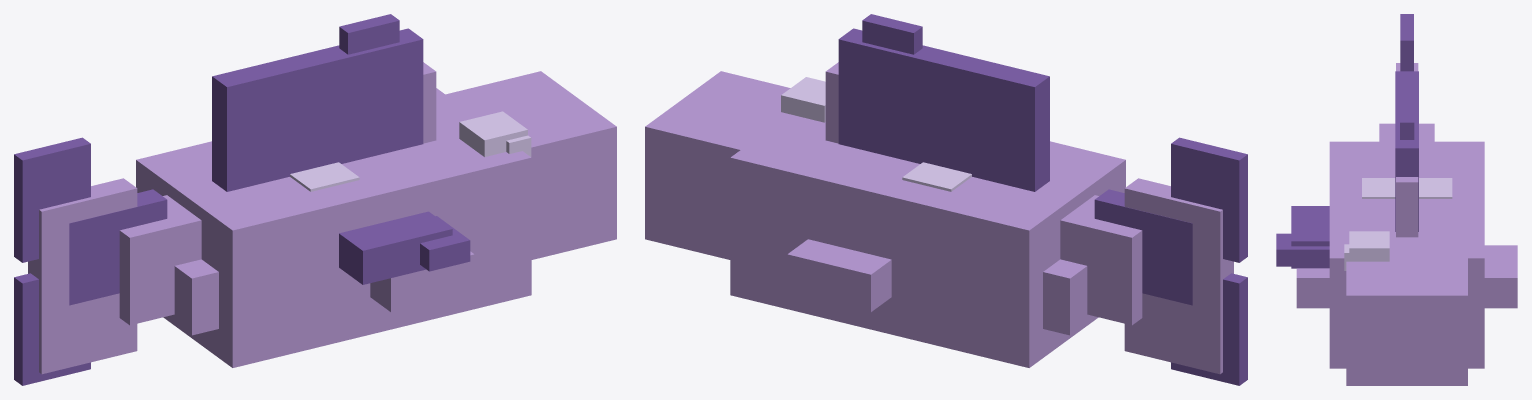
File: fish_prism_shad.glb
3 renders of one model, left to right at view 1: azimuth 30°, elevation 25°; view 2: azimuth 150°, elevation 25°; view 3: azimuth 270°, elevation 25°, orthographic. The views are drawn at different scales.
Parts seen in each view (by area): view 1: FishArt_body, FishArt_dorsal, FishArt_tail, FishArt_pectoral, FishArt_eye, FishArt_specialty; view 2: FishArt_body, FishArt_dorsal, FishArt_tail, FishArt_eye, FishArt_specialty; view 3: FishArt_body, FishArt_pectoral, FishArt_dorsal, FishArt_specialty, FishArt_eye, FishArt_tail.
Part boxes in pixels (<box>): FishArt_body: <box>28,62,616,374</box>; FishArt_dorsal: <box>212,14,423,191</box>; FishArt_tail: <box>14,137,167,385</box>; FishArt_pectoral: <box>339,211,470,284</box>; FishArt_eye: <box>459,111,531,156</box>; FishArt_specialty: <box>290,162,359,191</box>; FishArt_body: <box>645,62,1233,374</box>; FishArt_dorsal: <box>838,14,1049,191</box>; FishArt_tail: <box>1094,137,1247,385</box>; FishArt_eye: <box>781,77,825,122</box>; FishArt_specialty: <box>902,162,971,191</box>; FishArt_body: <box>1296,63,1517,385</box>; FishArt_pectoral: <box>1276,206,1329,268</box>; FishArt_dorsal: <box>1395,71,1418,231</box>; FishArt_specialty: <box>1362,178,1452,198</box>; FishArt_eye: <box>1344,231,1389,270</box>; FishArt_tail: <box>1400,14,1413,71</box>.
Bounding box in the file's own units: 0.3091 × 0.1442 × 0.1439.
